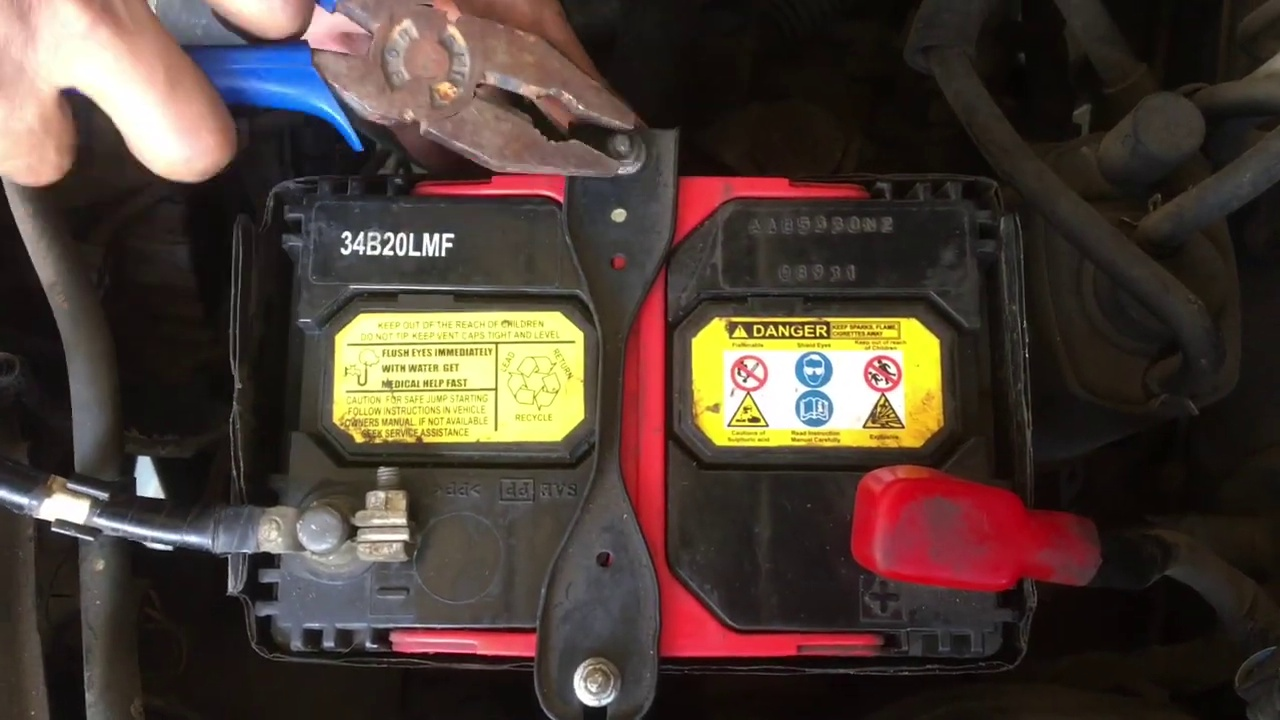battery: (238, 178, 1042, 663)
neg_connected: (232, 452, 439, 594)
pos_connected: (829, 437, 1129, 610)
